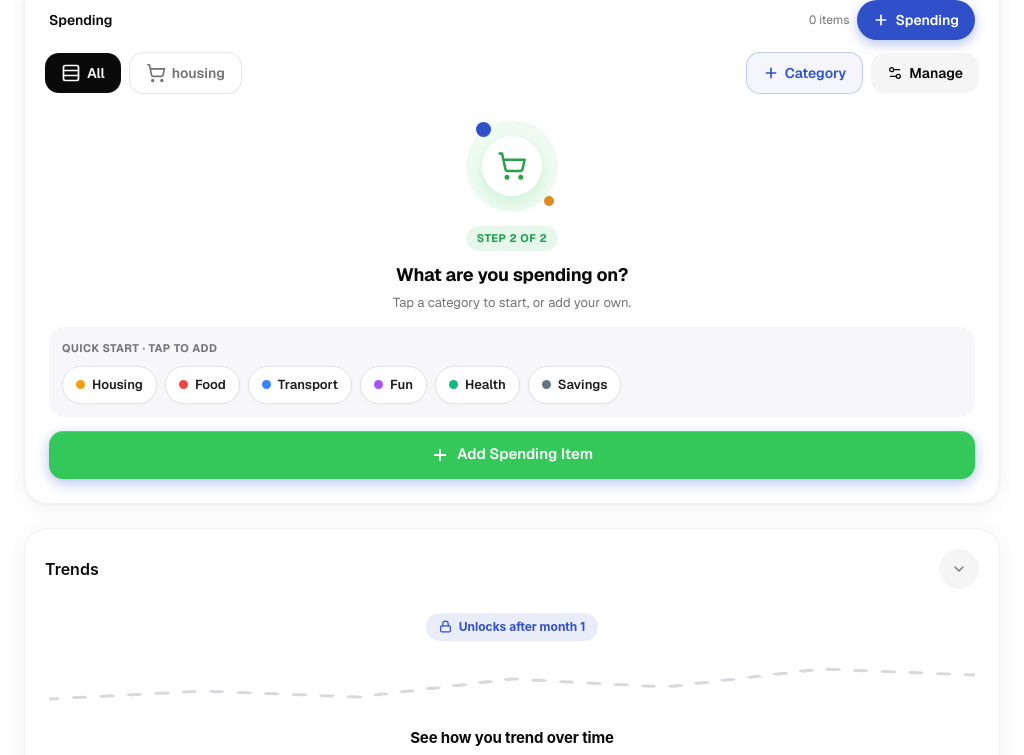
it: Dashboard — starter chips (guided step 2) › reuses an existing category (case-insensitive) untouched and preselects the user's label
(page scrolled)
Click the button "Housing". click: (109, 385)
box: [62,366,157,404]
(page scrolled)
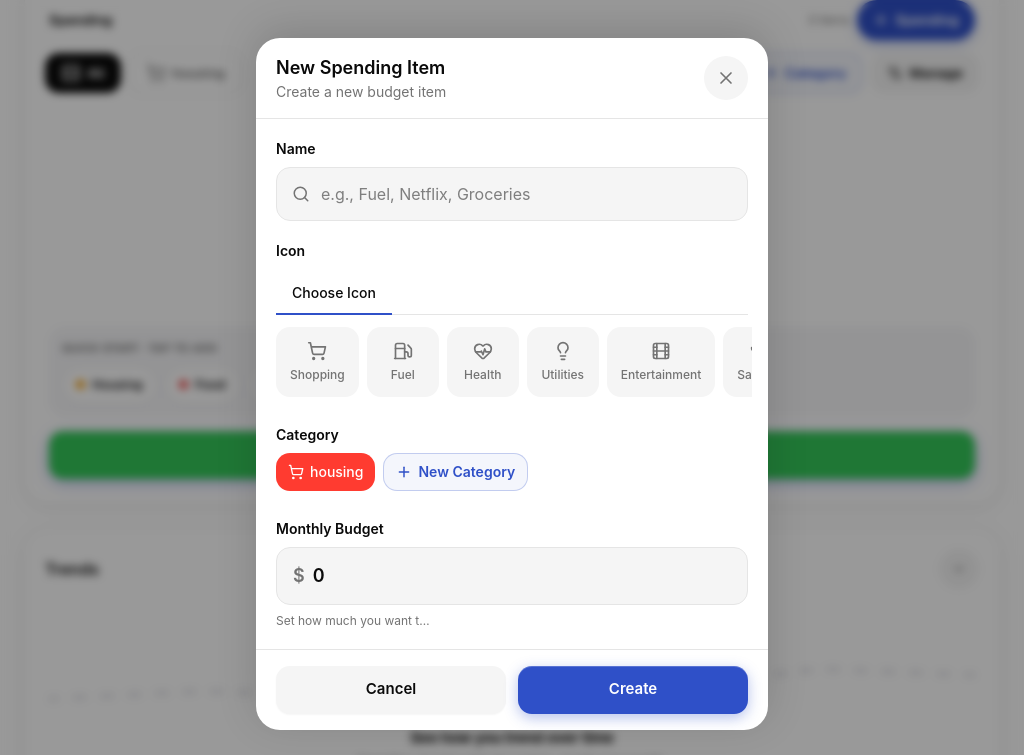
Now the heading "New Spending Item" is shown, box [276,54,446,82]
